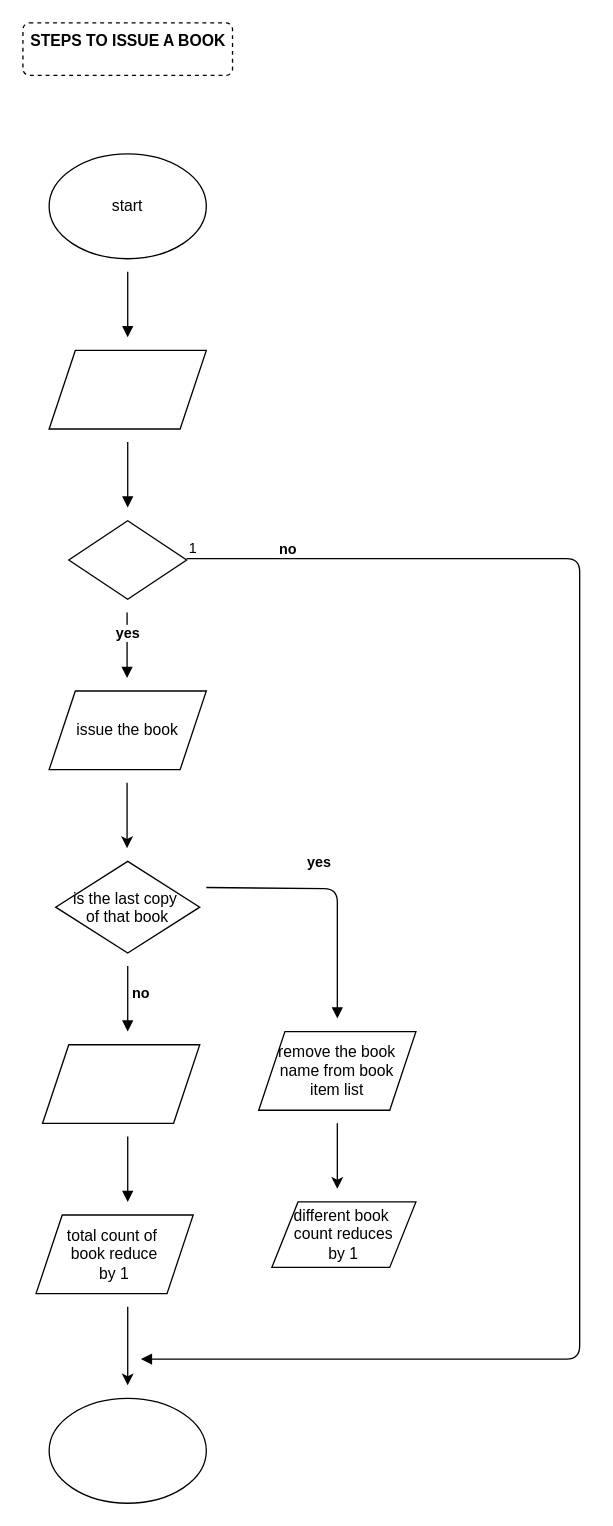
This 613x1526 diagram has some shape labels left out. The shapes that lost their labels are listed below. From the top down, each one's centre as x and y in pixels, then its label:
point 127,389: search the book in book list
point 127,559: is book present
point 120,1083: remove the book name from book list
point 127,1450: end
